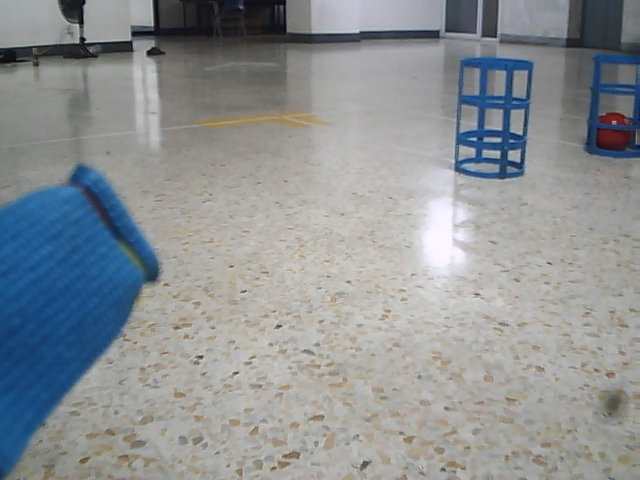Cyro: (453, 54, 536, 182), (582, 51, 640, 160)
Red ball: (592, 111, 636, 155)
